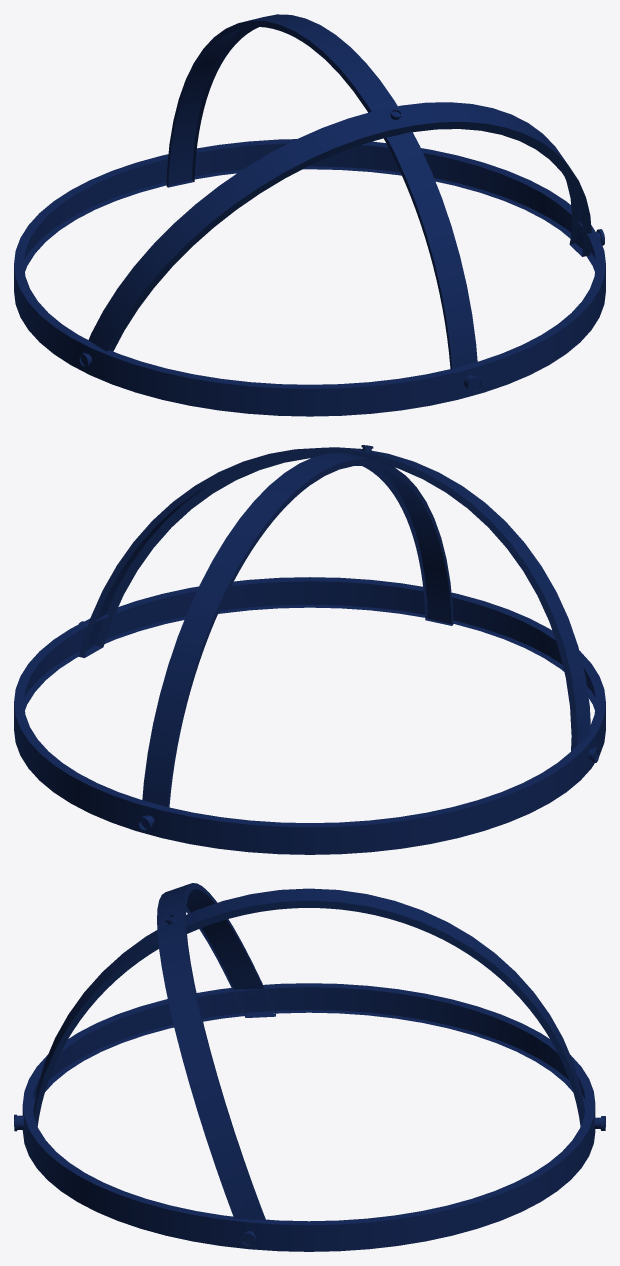
Rendered from Mesh_GreenGym_Rock.FBX.
3 views of the same model, one above another, from view 1: azimuth 30°, elevation 25°; view 2: azimuth 150°, elevation 25°; view 3: azimuth 270°, elevation 25° (orthographic). The views are drawn at different scales.
Parts seen in each view (by area): view 1: Mesh_GreenGym_Rock; view 2: Mesh_GreenGym_Rock; view 3: Mesh_GreenGym_Rock.
Part boxes in pixels (x1,y1,x2,y2): Mesh_GreenGym_Rock: [14, 14, 605, 416]; Mesh_GreenGym_Rock: [14, 445, 605, 854]; Mesh_GreenGym_Rock: [14, 883, 605, 1251].
Size of what is drawn, in the model's own units: 1576 by 1607 by 726.
